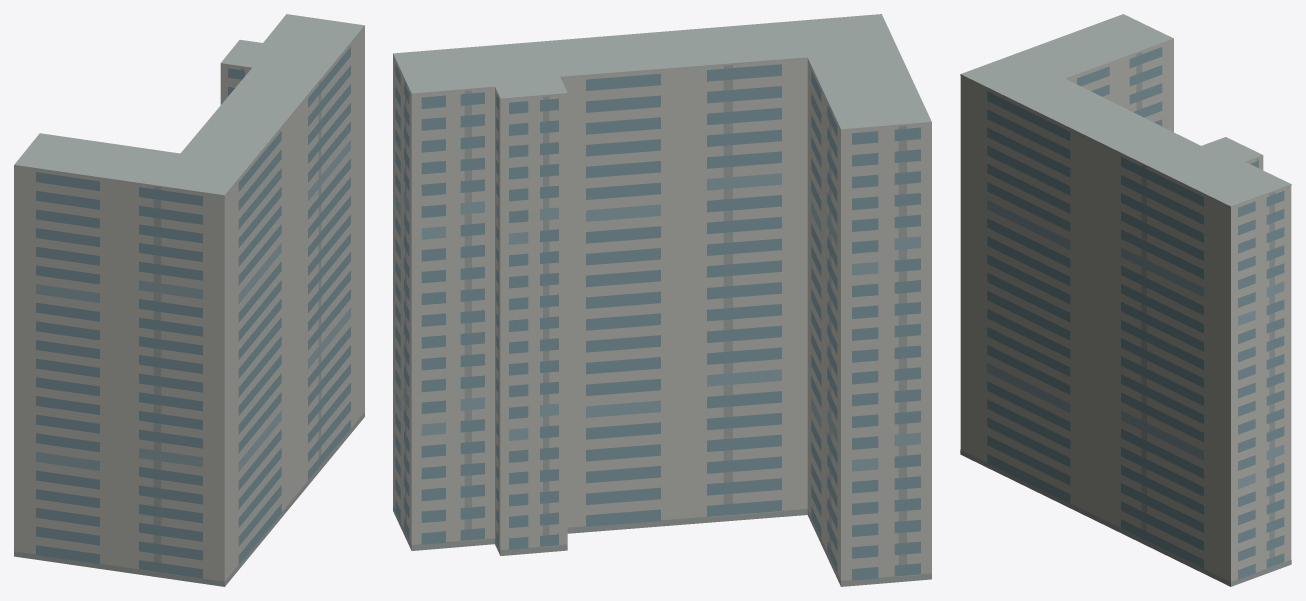
File: residential-0a44d550-23eb-455a-80f5-b7183e1abe1d.glb
The picture shows the model from 3 angles, left to right: view 1: azimuth 30°, elevation 25°; view 2: azimuth 150°, elevation 25°; view 3: azimuth 270°, elevation 25°; orthographic projection. The views are drawn at different scales.
Visible parts, largest first — view 1: residential-0a44d550-23eb-455a-80f5-b7183e1abe1d.tmp; view 2: residential-0a44d550-23eb-455a-80f5-b7183e1abe1d.tmp; view 3: residential-0a44d550-23eb-455a-80f5-b7183e1abe1d.tmp.
Boxes of the visible parts, x1,y1,x2,y2 form: residential-0a44d550-23eb-455a-80f5-b7183e1abe1d.tmp: [14, 14, 364, 586]; residential-0a44d550-23eb-455a-80f5-b7183e1abe1d.tmp: [393, 14, 931, 586]; residential-0a44d550-23eb-455a-80f5-b7183e1abe1d.tmp: [960, 14, 1291, 586].
Bounding box in the file's own units: 69.49 × 64.05 × 50.5.
